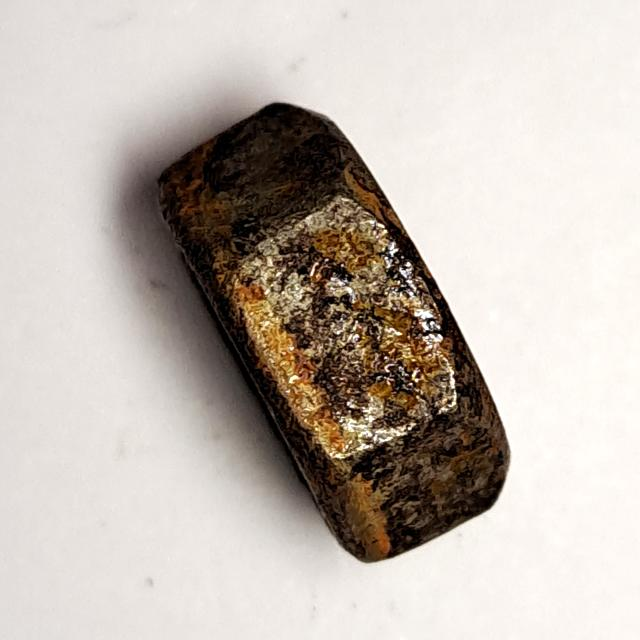Side_Rust: (145, 96, 530, 581)
